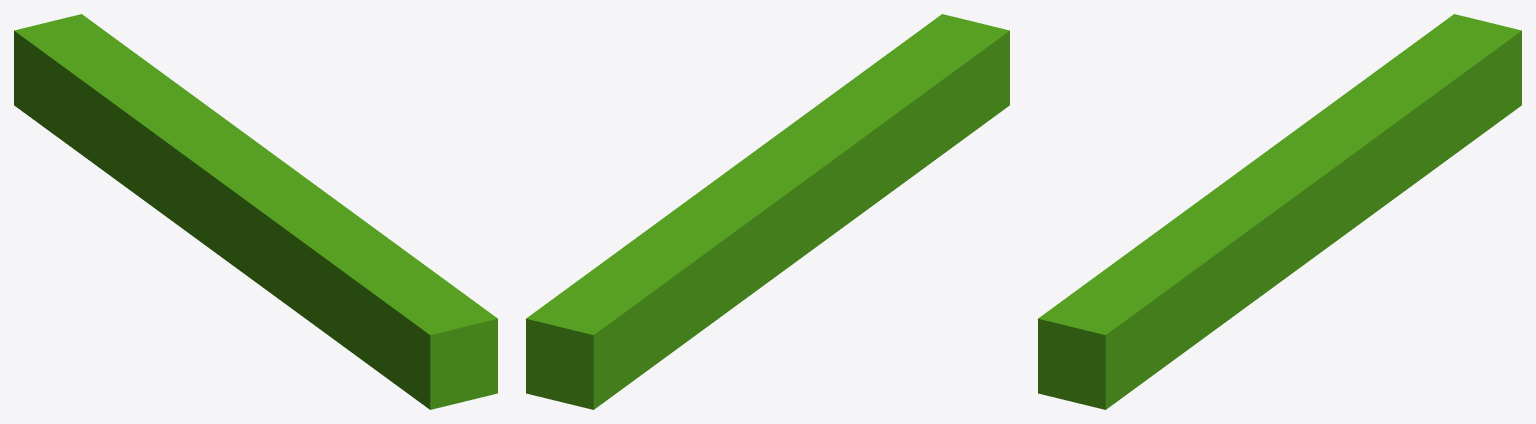
File: logpile_log.DAE
The picture shows the model from 3 angles, left to right: view 1: azimuth 30°, elevation 25°; view 2: azimuth 150°, elevation 25°; view 3: azimuth 330°, elevation 25°; orthographic projection.
Visible parts, largest first — view 1: bounds; view 2: bounds; view 3: bounds.
Boxes of the visible parts, x1,y1,x2,y2 form: bounds: (14, 14, 497, 409); bounds: (526, 14, 1009, 409); bounds: (1038, 14, 1521, 409).
Bounding box in the file's own units: 1.06 × 11.3 × 1.12.
